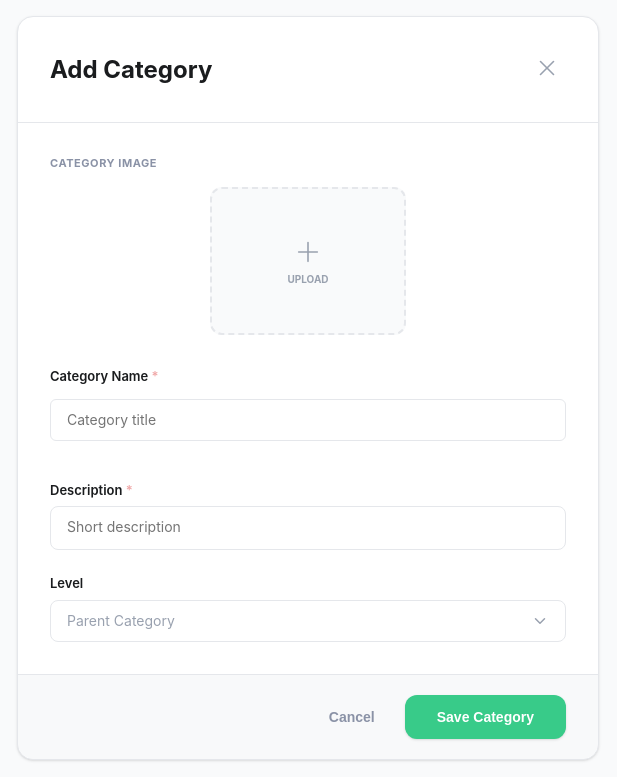
Test case: Component: CategoryForm › should cover branch where items is not provided
This screenshot has width=617, height=777.
Click the text "Parent Category": (121, 621) [67,611,175,631]
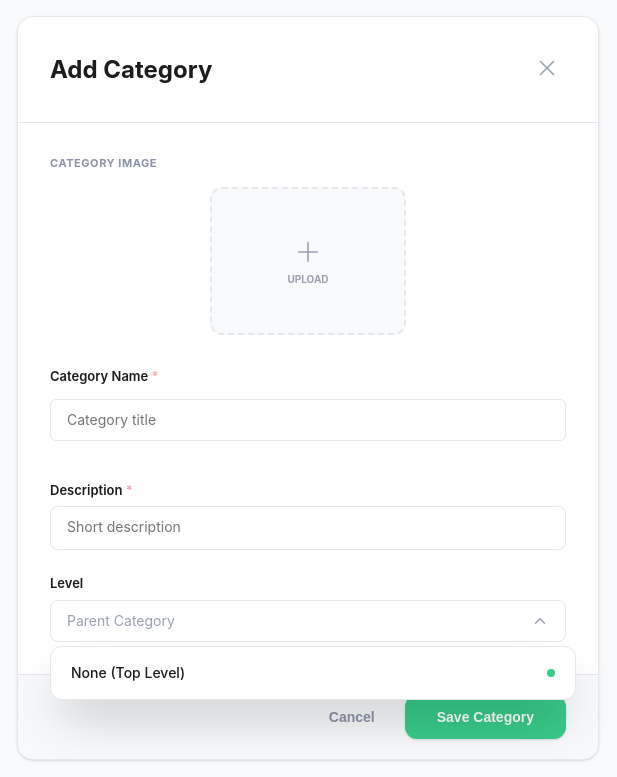
Expected: the text "None (Top Level)" is shown, [71,663,185,683]
